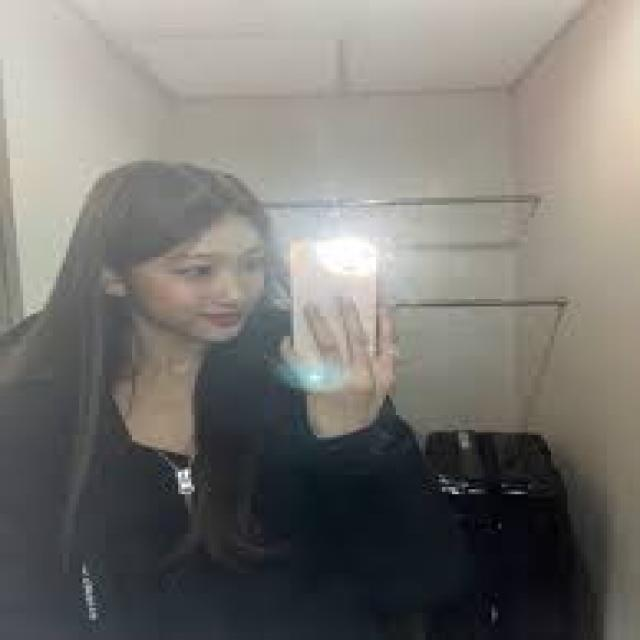Phone: (287, 235, 380, 378)
